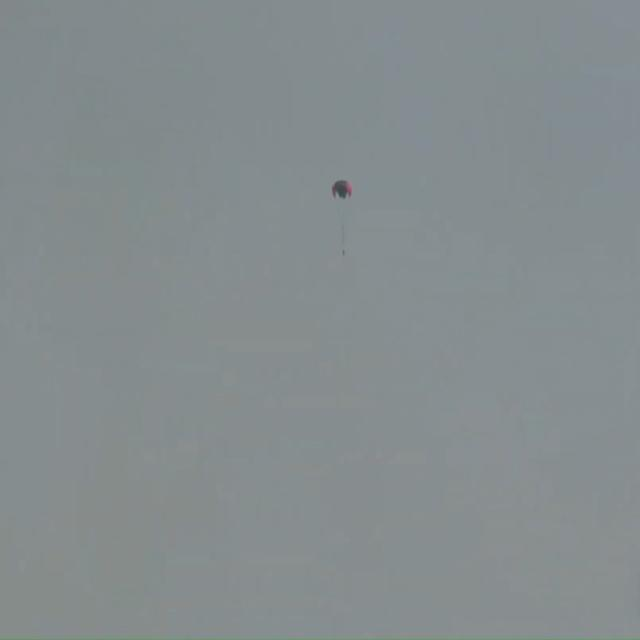Rocket: (342, 248, 345, 258)
